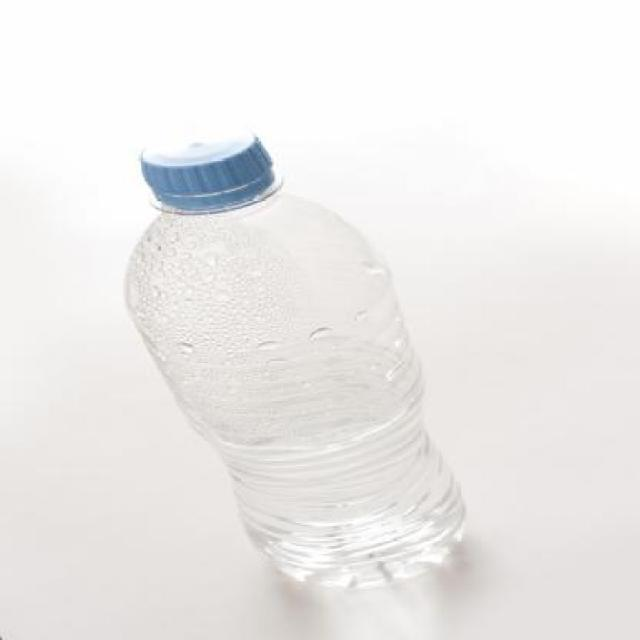bottle: (102, 101, 486, 610)
